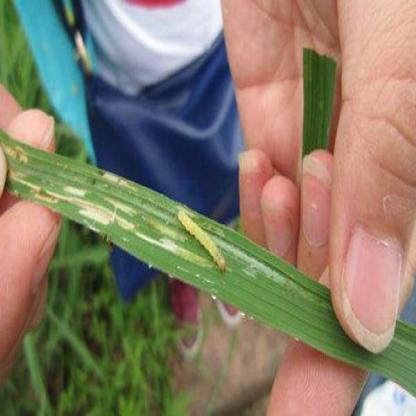leaf-folder: (176, 203, 238, 289)
